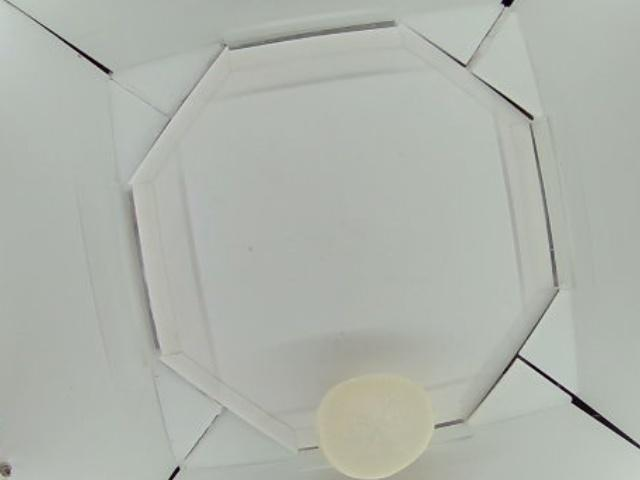Mooli: (314, 377, 436, 480)
